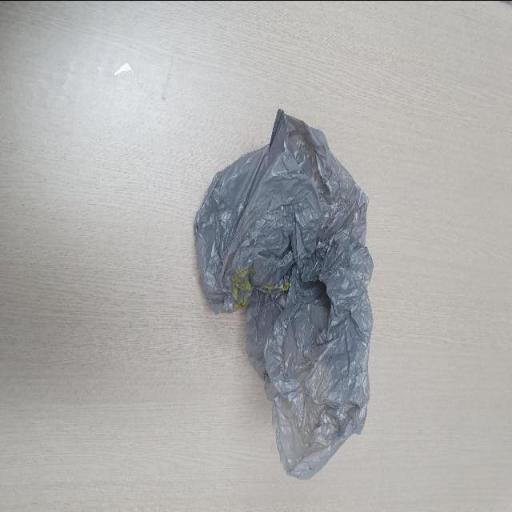plastic-bag: (190, 100, 376, 486)
